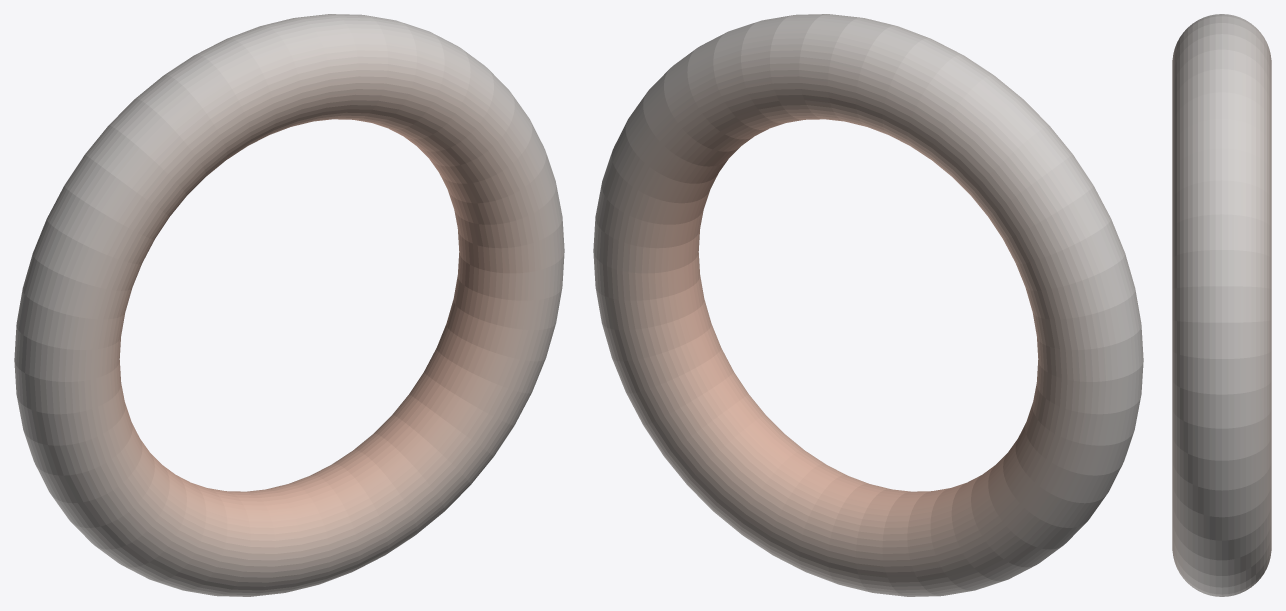
3 views of the same model, side by side, from view 1: azimuth 30°, elevation 25°; view 2: azimuth 150°, elevation 25°; view 3: azimuth 270°, elevation 25° (orthographic). The views are drawn at different scales.
Visible parts, largest first — view 1: world; view 2: world; view 3: world.
Part boxes in pixels (x1,y1,x2,y2): world: (14,14,564,596); world: (593,14,1143,596); world: (1172,14,1271,596).
Size of the model in its own units: 30.53 by 30.47 by 5.19.
